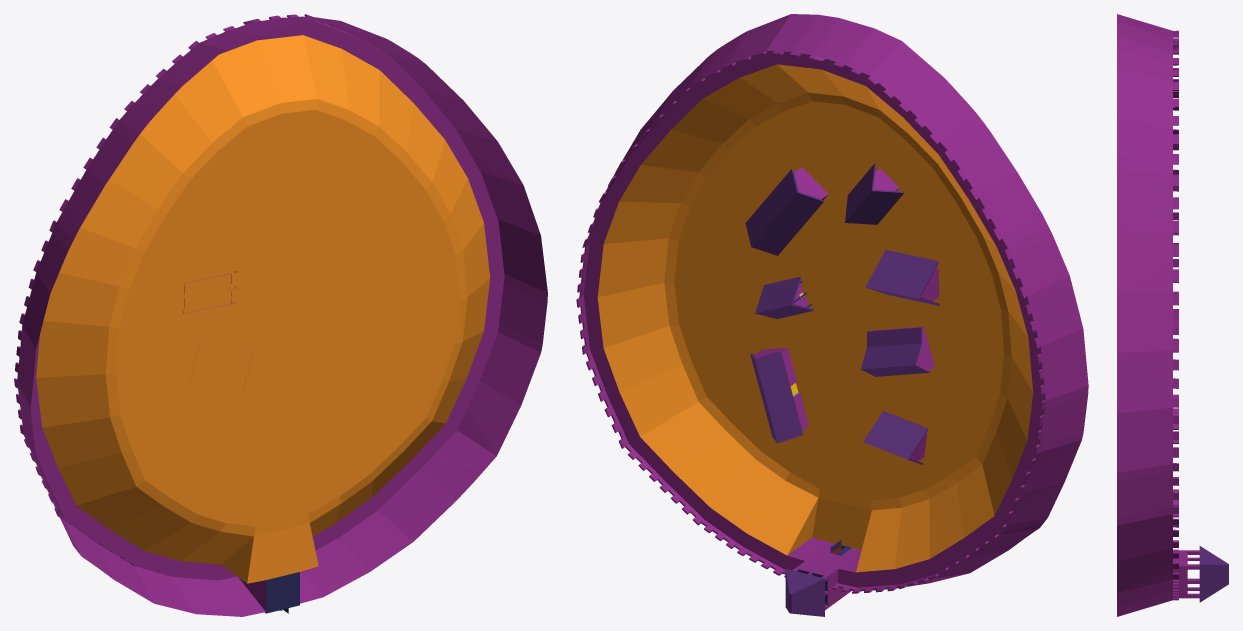
Rendered from Piotrówka Tier 3.fbx.
The picture shows the model from 3 angles, left to right: view 1: azimuth 30°, elevation 25°; view 2: azimuth 150°, elevation 25°; view 3: azimuth 270°, elevation 25°; orthographic projection. The views are drawn at different scales.
Parts seen in each view (by area): view 1: Piotrowka; view 2: Piotrowka; view 3: Piotrowka.
Boxes of the visible parts, x1,y1,x2,y2 form: Piotrowka: (14,14,547,616); Piotrowka: (576,14,1088,616); Piotrowka: (1117,14,1228,616).
Size of the model in its own units: 4.35 by 4.73 by 0.8531.
